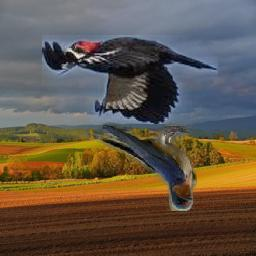Swallow: (83, 123, 198, 212)
Woodpecker: (42, 36, 218, 125)
